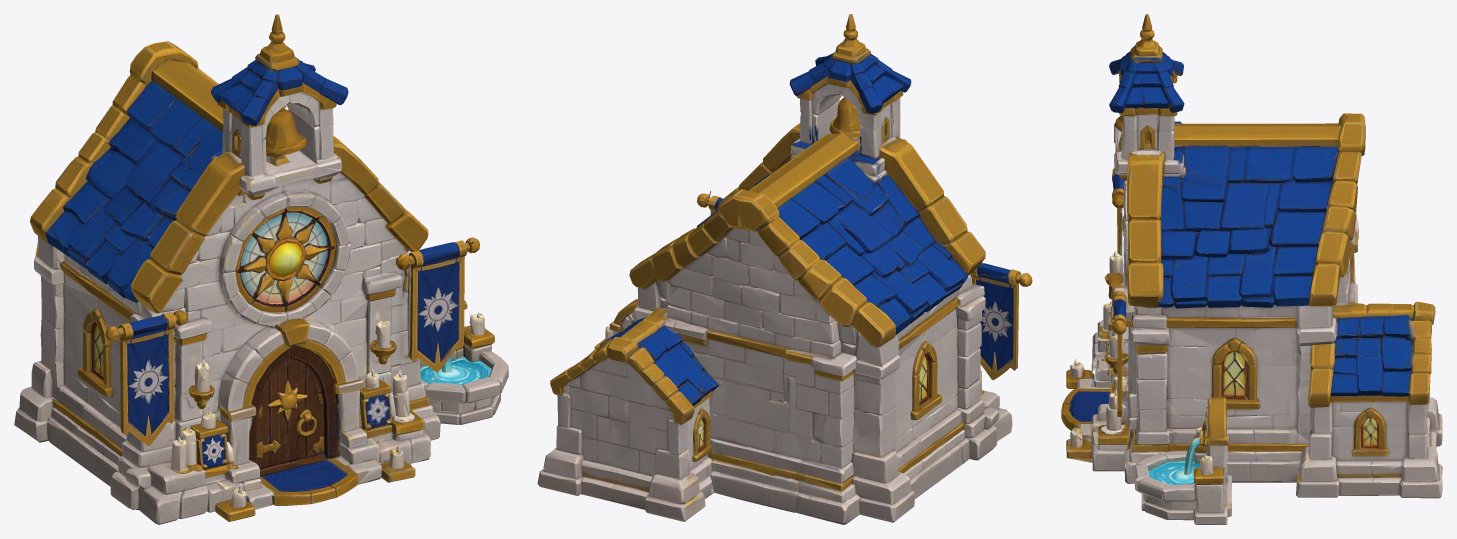
Rendered from priest_shop.glb.
The picture shows the model from 3 angles, left to right: view 1: azimuth 30°, elevation 25°; view 2: azimuth 150°, elevation 25°; view 3: azimuth 270°, elevation 25°; orthographic projection. The views are drawn at different scales.
Bounding box in the file's own units: 1.9 × 1.9 × 1.63.
1 material, 1 textured.
